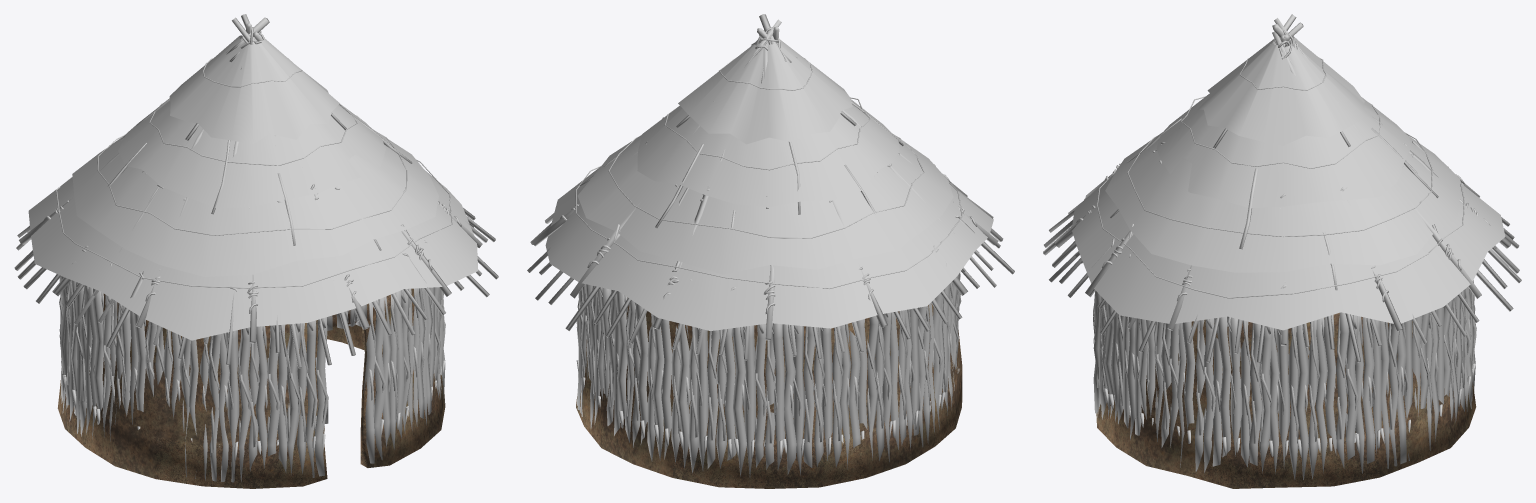
The model's file is lowpoly_african_hut_004.obj.
3 renders of one model, left to right at view 1: azimuth 30°, elevation 25°; view 2: azimuth 150°, elevation 25°; view 3: azimuth 270°, elevation 25°, orthographic.
Parts seen in each view (by area): view 1: lowpoly_african_hut_004; view 2: lowpoly_african_hut_004; view 3: lowpoly_african_hut_004.
Boxes of the visible parts, x1=… form: lowpoly_african_hut_004: x1=14, y1=14, x2=498, y2=488; lowpoly_african_hut_004: x1=527, y1=14, x2=1014, y2=488; lowpoly_african_hut_004: x1=1043, y1=14, x2=1521, y2=488.
Bounding box in the file's own units: 3.88 × 3.51 × 3.9.
